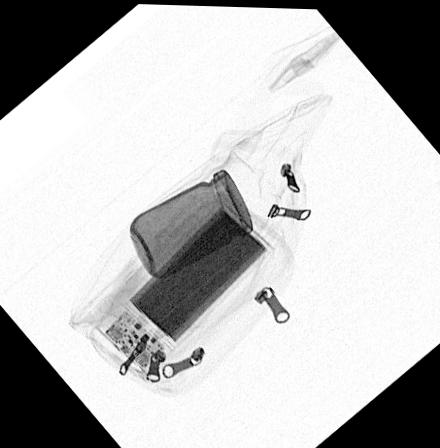Powerbank: (94, 200, 274, 376)
